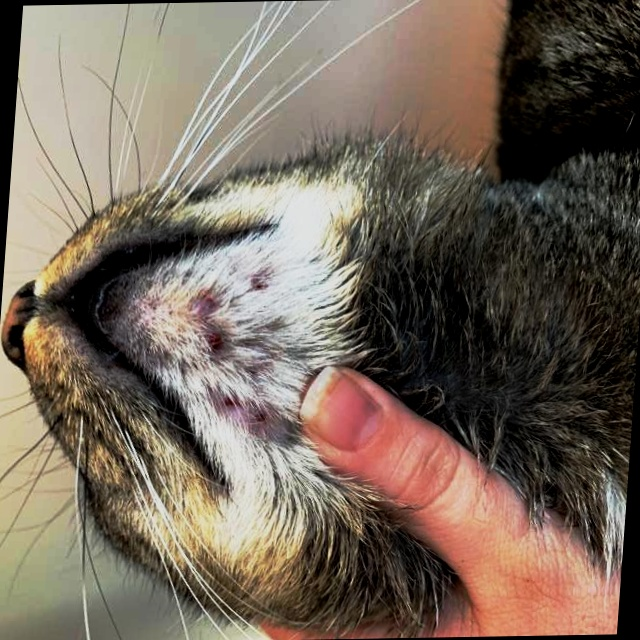acne: (185, 262, 307, 422)
